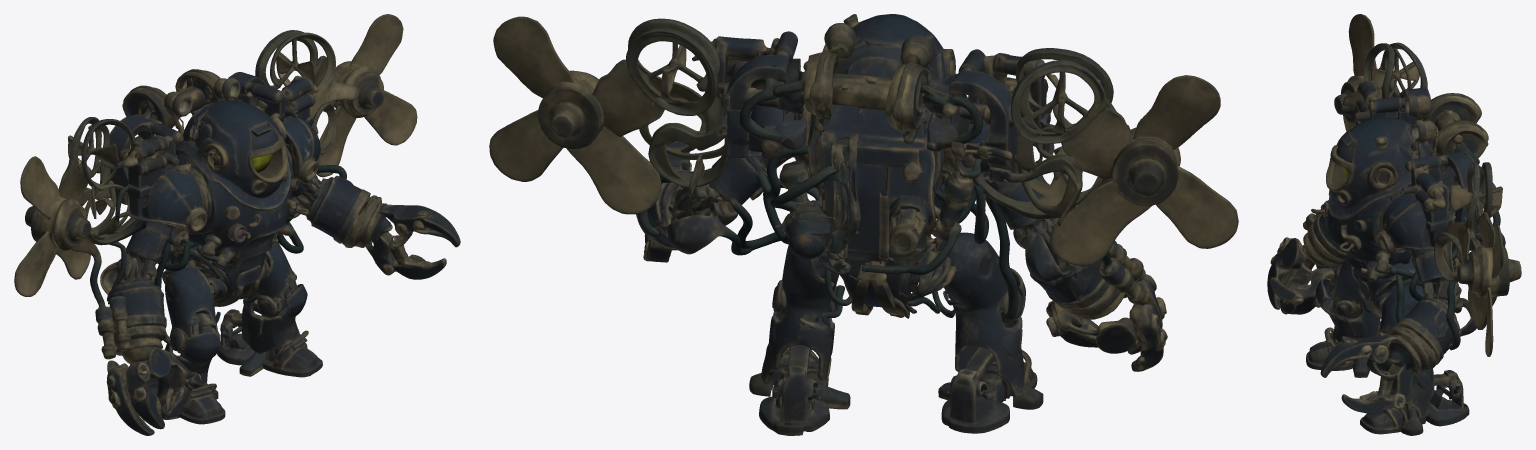
Rendered from obj110_aqua_diving_mech.glb.
3 renders of one model, left to right at view 1: azimuth 30°, elevation 25°; view 2: azimuth 150°, elevation 25°; view 3: azimuth 270°, elevation 25°, orthographic. The views are drawn at different scales.
Size of the model in its own units: 0.802 by 0.4752 by 0.3772.
1 material, 1 textured.
